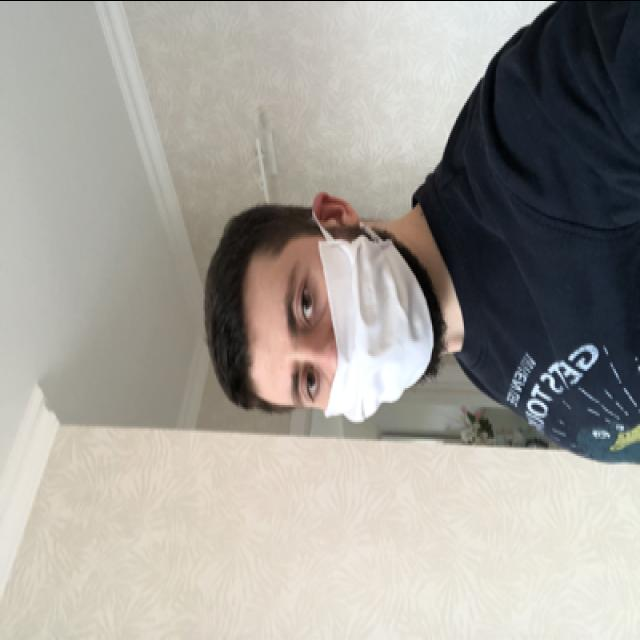mask: (264, 234, 446, 421)
